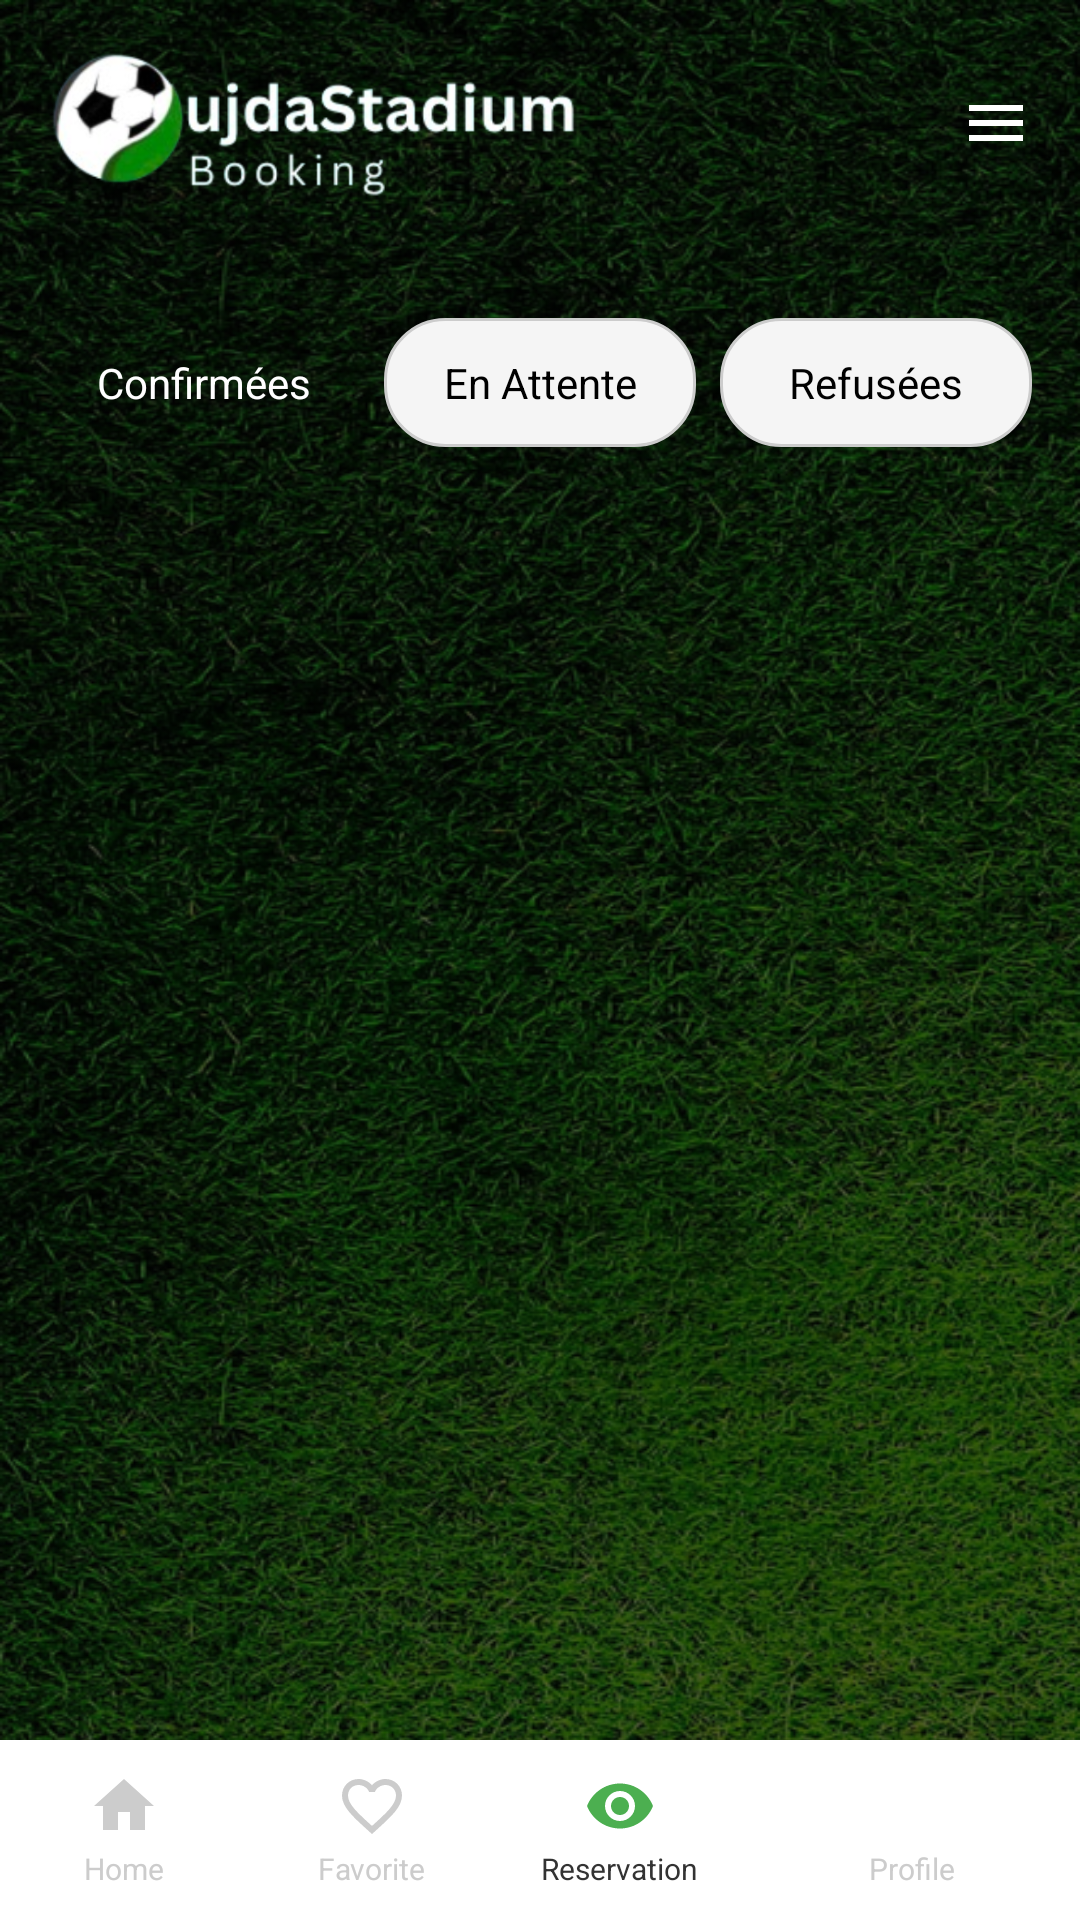

Where to tap for icons on this 1080px×1920px app screen, as point (x, y):
Menu: point (995, 121)
